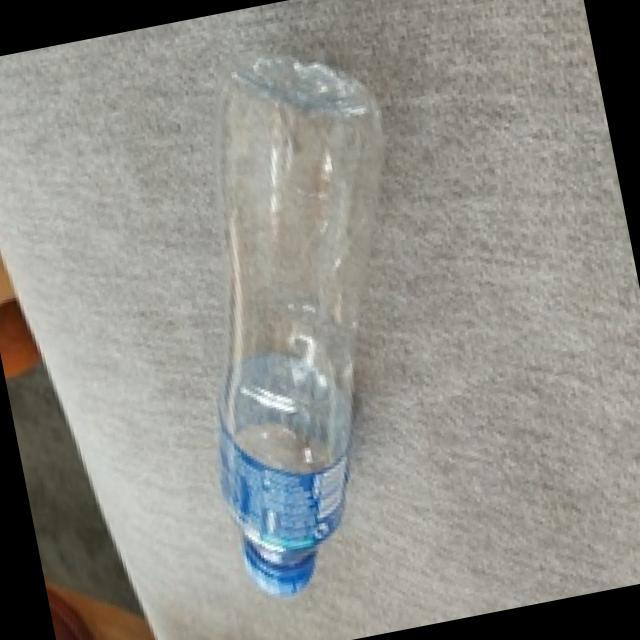good: (147, 14, 476, 616)
